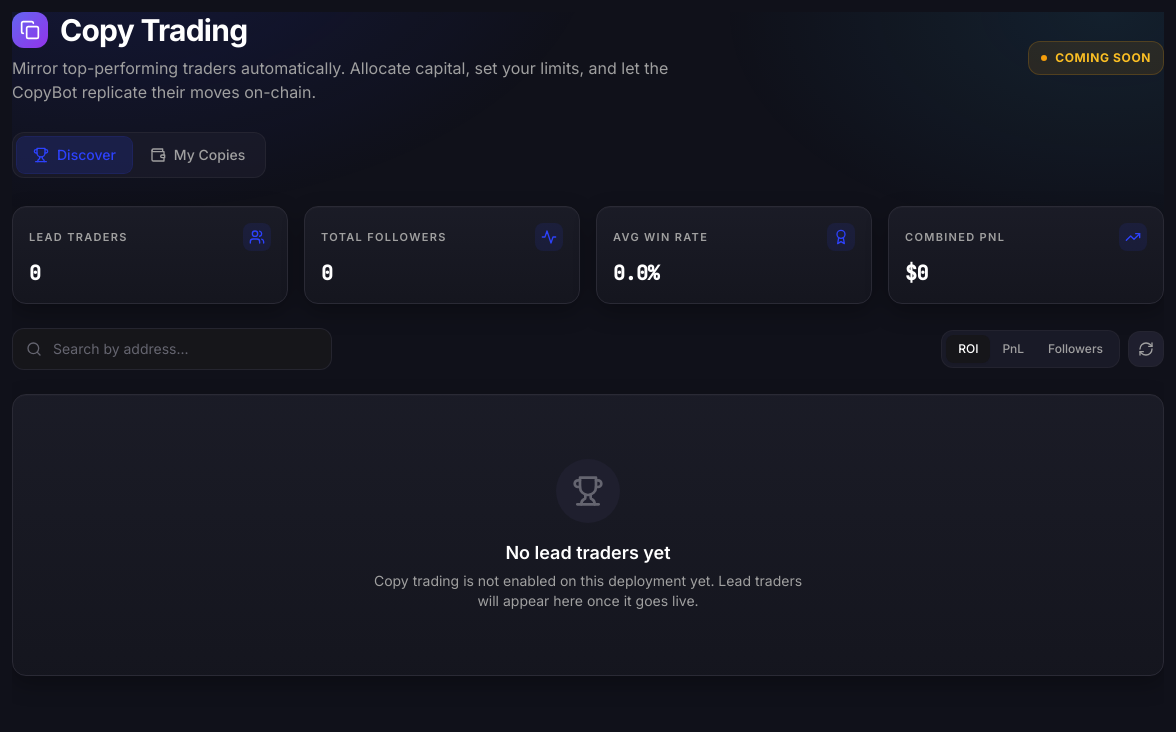
Test case: CopyTradingPage — My Copies › shows loading skeletons in My Copies
The width and height of the screenshot is (1176, 732).
Click the button "My Copies".
click(198, 155)  # box [134, 137, 261, 173]
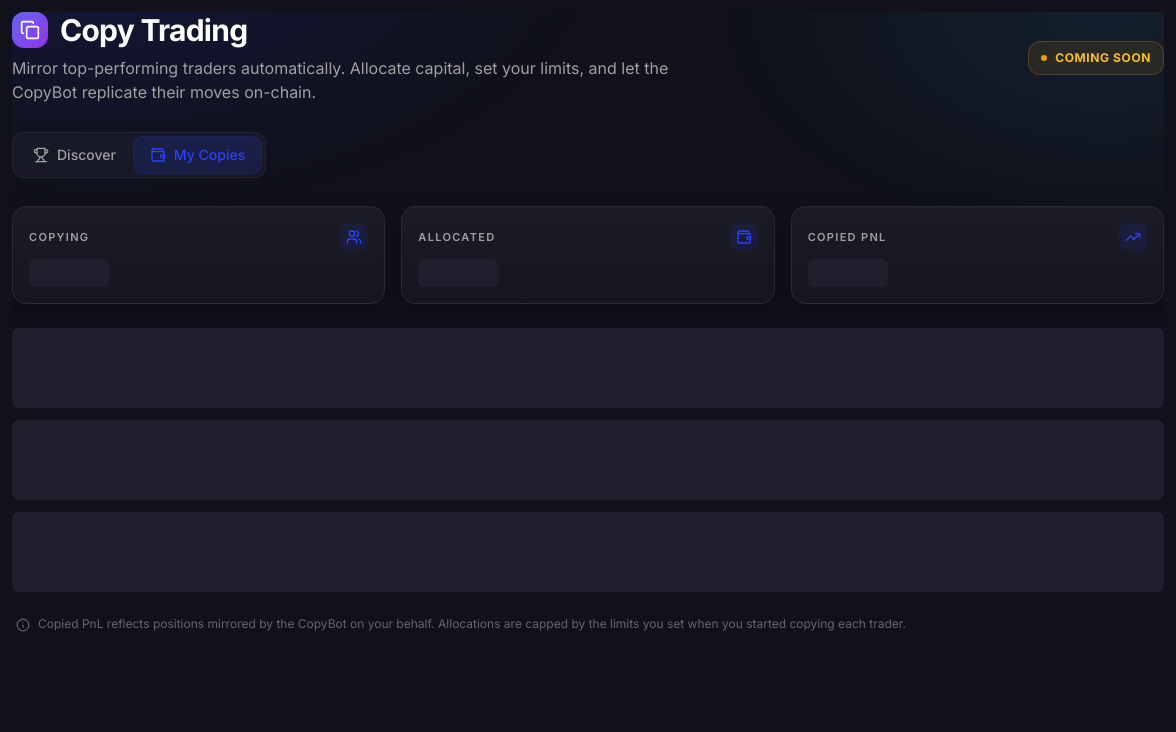
Expected: the text "Copying" is shown, [29, 229, 89, 245]
